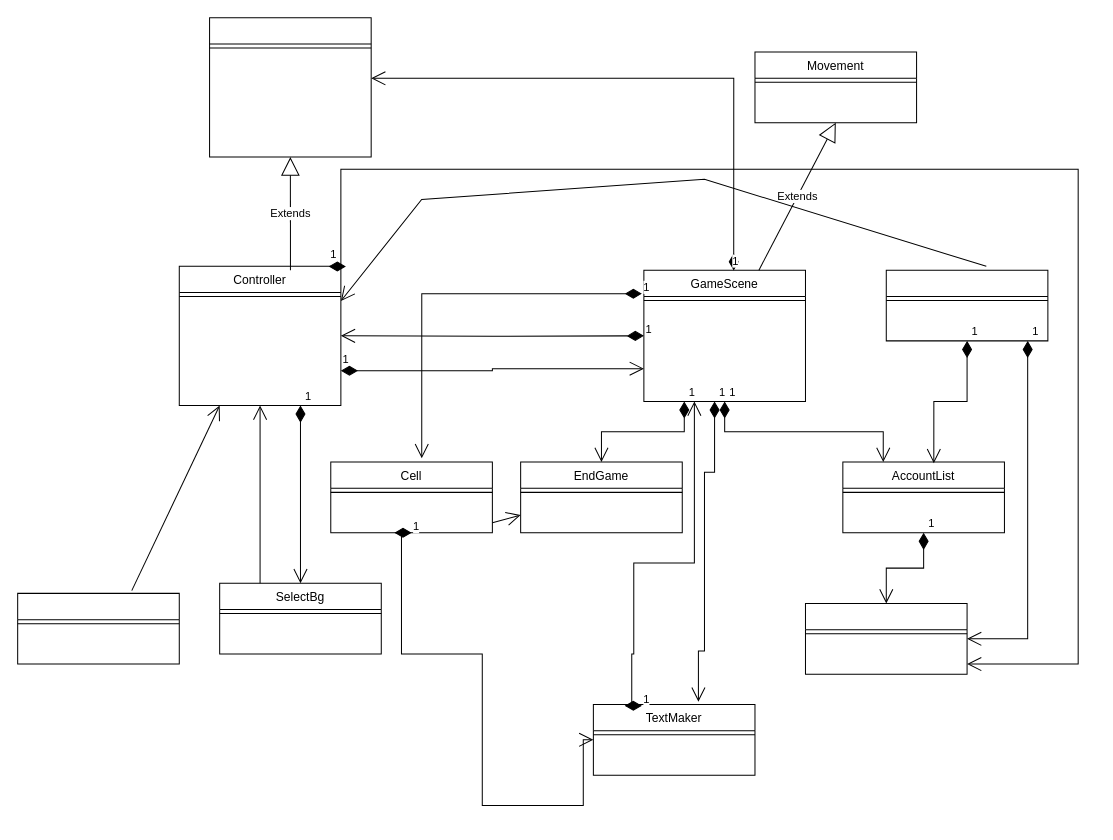
Image size: 1113x840. Some labels were removed from this diagram. The box of each missing label's shape, as (x1, y1, x2, y2) in pixels:
Account: (804, 602, 967, 674)
InfoControl: (17, 592, 179, 664)
LeaderBoard: (885, 269, 1048, 341)
Main: (209, 17, 371, 157)
